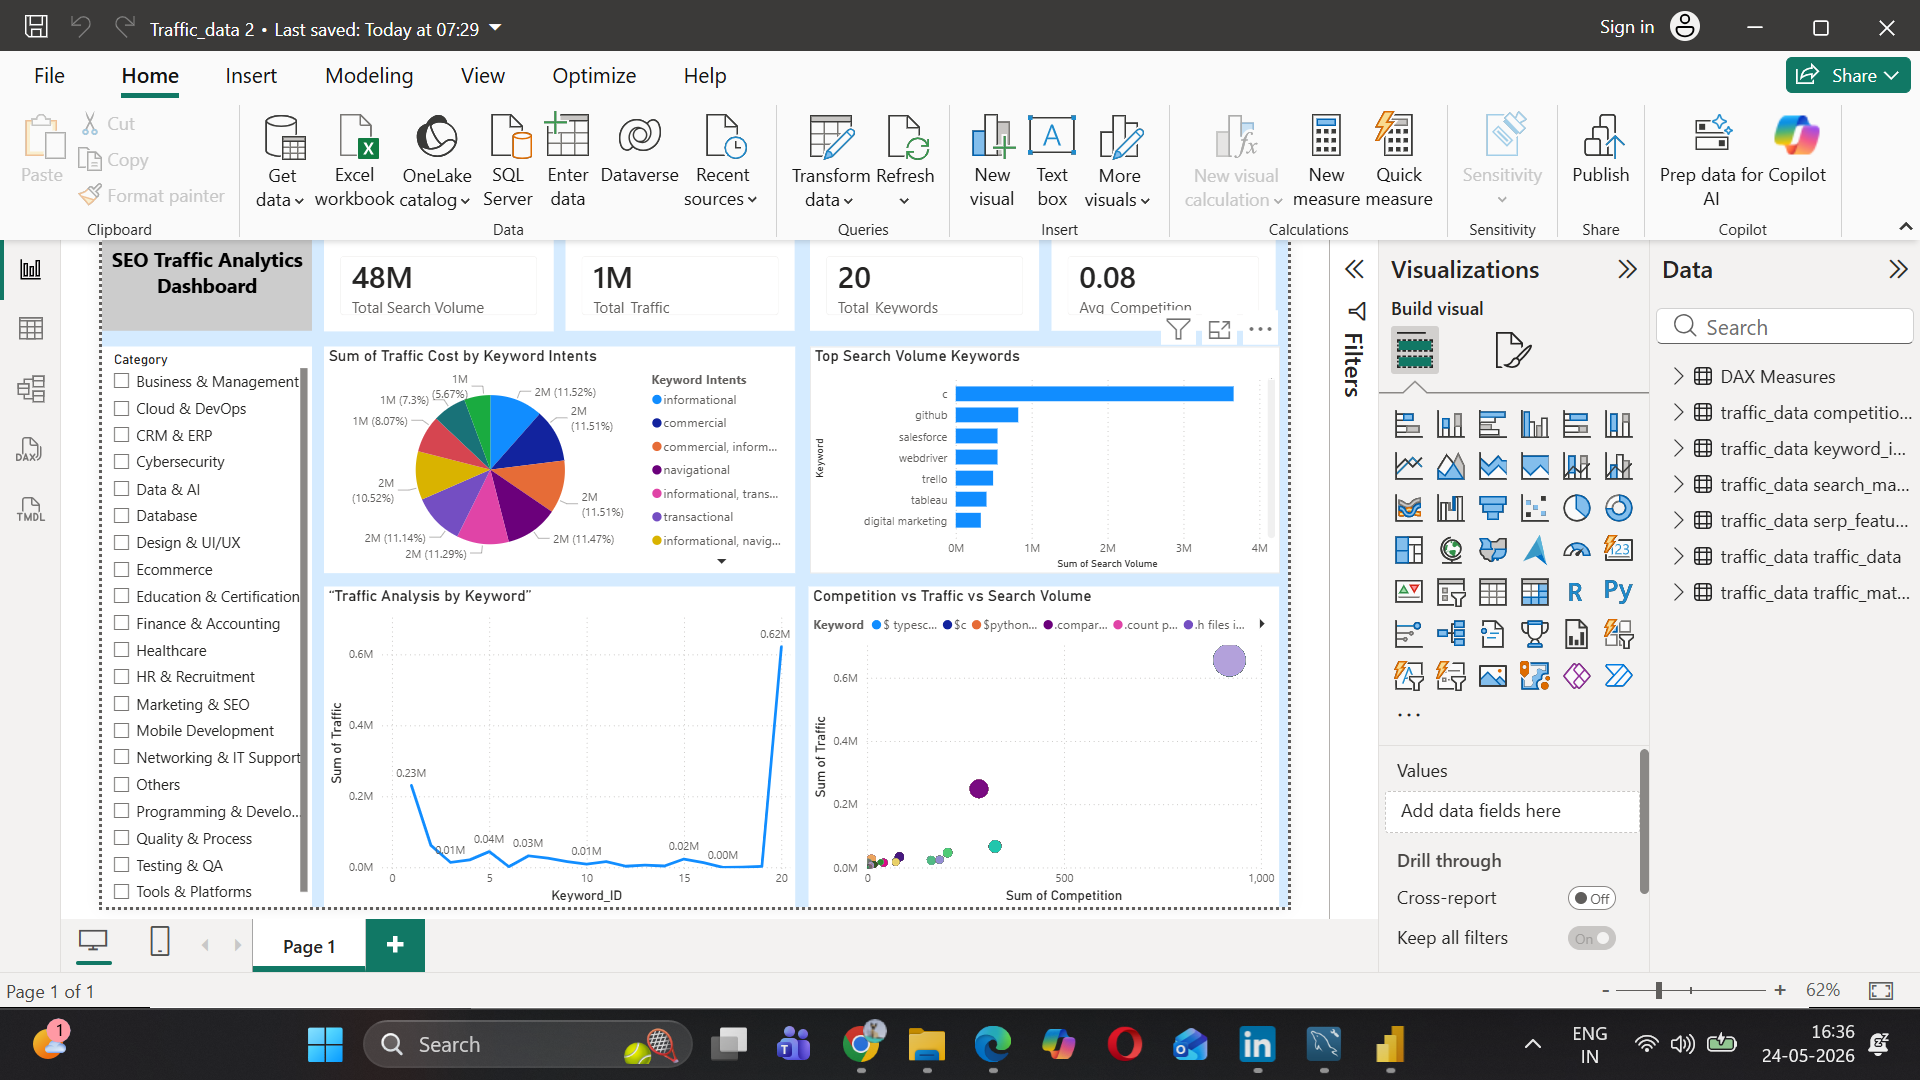

What the dashboard file says about the page in this screenshot:
{"tool":"powerbi","page":{"name":"Page 1","canvas":[1280,720],"ordinal":0},"visuals":[{"type":"cardVisual","fields":{"Data":["DAX Measures.Total_Traffic"]},"box":[500.8,0,247.6,98.3],"z":0},{"type":"cardVisual","fields":{"Data":["DAX Measures.Total_Keywords"]},"box":[763.5,0,247.6,98.3],"z":1000},{"type":"cardVisual","fields":{"Data":["DAX Measures.Avg_Competition"]},"box":[1024.3,0,241.9,98.3],"z":2000},{"type":"cardVisual","fields":{"Data":["DAX Measures.Total_Search_Volume"]},"box":[239.6,0,247.7,98.8],"z":3000},{"type":"textbox","box":[0,0,226.8,98.3],"z":4000},{"type":"slicer","fields":{"Values":["traffic_data traffic_data.Category"]},"box":[0,115,226.7,605.6],"z":5000},{"type":"pieChart","fields":{"Category":["traffic_data keyword_intent.Keyword Intents"],"Y":["Sum(traffic_data traffic_data.Traffic Cost)"]},"box":[239.6,115,508.4,244.5],"z":6000},{"type":"barChart","title":"Top Search Volume Keywords","fields":{"Y":["Sum(traffic_data traffic_data.Search Volume)"],"Category":["traffic_data traffic_data.Keyword"]},"box":[764.3,115,506.8,244.5],"z":7000},{"type":"lineChart","title":"“Traffic Analysis by Keyword”","fields":{"Category":["traffic_data traffic_data.Keyword_ID"],"Y":["Sum(traffic_data traffic_data.Traffic)"]},"box":[240,374.2,508.4,345.8],"z":8000},{"type":"scatterChart","title":"Competition vs Traffic vs Search Volume","fields":{"X":["Sum(traffic_data competition_matrics.Competition)"],"Y":["Sum(traffic_data traffic_matrics.Traffic)"],"Size":["Sum(traffic_data search_matrics.Search Volume)"],"Series":["traffic_data traffic_data.Keyword"]},"box":[763,374,508,346],"z":9000}]}

Visuals, with their boxes on the page's 1280x720 design canvas (x1, y1, x2, y2). These are canvas units, not pixel positions in the 1920x1080 screenshot, which may show the page scaled, cropped or inside an application window:
cardVisual - DAX Measures.Total_Traffic: box=[501, 0, 748, 98]
cardVisual - DAX Measures.Total_Keywords: box=[764, 0, 1011, 98]
cardVisual - DAX Measures.Avg_Competition: box=[1024, 0, 1266, 98]
cardVisual - DAX Measures.Total_Search_Volume: box=[240, 0, 487, 99]
textbox: box=[0, 0, 227, 98]
slicer - traffic_data traffic_data.Category: box=[0, 115, 227, 721]
pieChart - traffic_data keyword_intent.Keyword Intents x Sum(traffic_data traffic_data.Traffic Cost): box=[240, 115, 748, 360]
"Top Search Volume Keywords" barChart: box=[764, 115, 1271, 360]
"“Traffic Analysis by Keyword”" lineChart: box=[240, 374, 748, 720]
"Competition vs Traffic vs Search Volume" scatterChart: box=[763, 374, 1271, 720]
